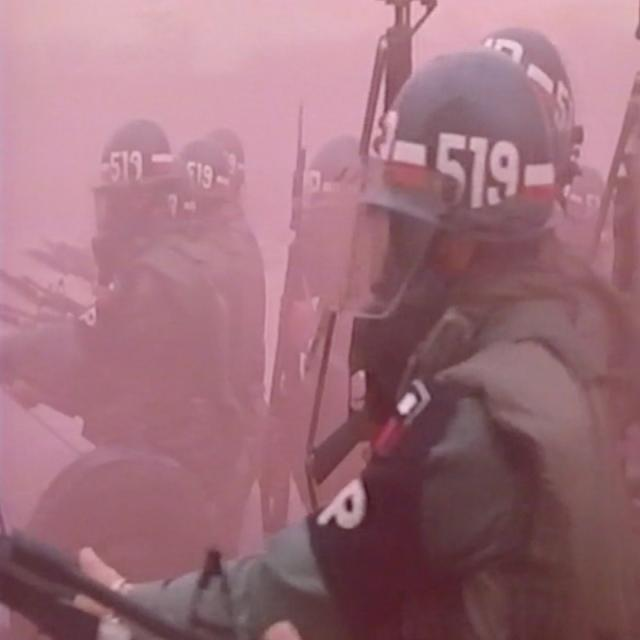police: (266, 57, 603, 640), (38, 63, 254, 571)
